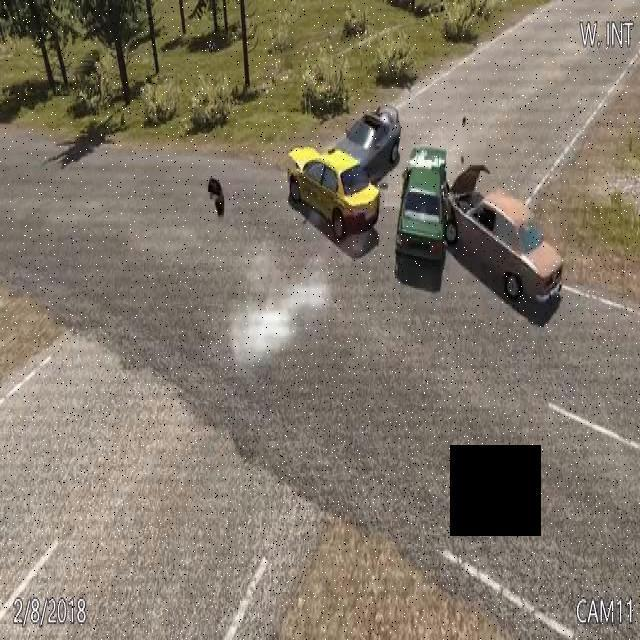vehicle: (382, 128, 580, 300), (270, 79, 404, 242)
